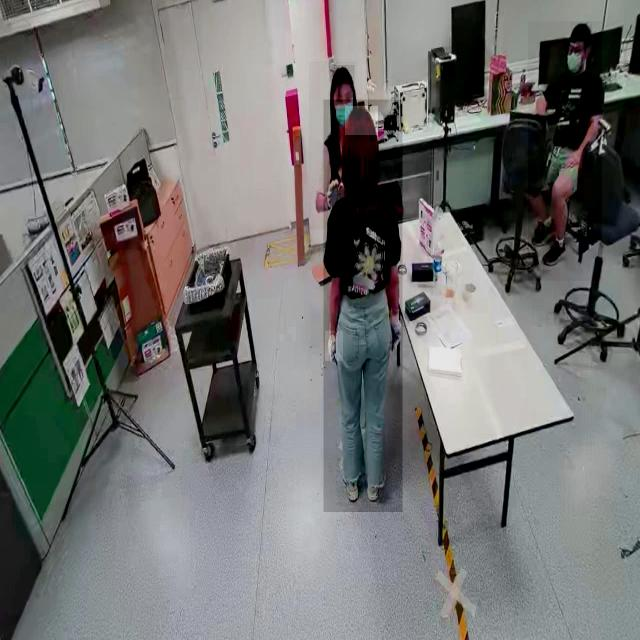face_mask: (564, 39, 586, 79), (333, 85, 353, 121)
hand_glove: (323, 168, 345, 218), (386, 315, 404, 353), (325, 331, 343, 362)
hand_noglove: (564, 148, 582, 170)
head_nohelmet: (344, 106, 378, 136), (332, 65, 354, 85), (570, 21, 592, 40)
person: (323, 99, 403, 513), (528, 21, 602, 282), (309, 62, 357, 230)
shoes: (335, 449, 365, 502), (360, 456, 386, 510), (531, 208, 557, 251), (542, 233, 570, 271)
